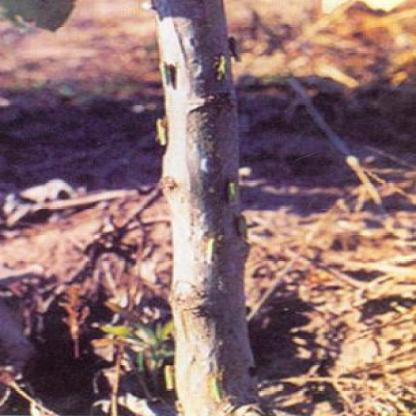Green-Leafhopper: (209, 372, 232, 404), (209, 52, 231, 80), (233, 210, 252, 242), (154, 116, 173, 146), (160, 364, 180, 392), (226, 173, 244, 203), (226, 35, 245, 62), (203, 232, 218, 264), (159, 63, 178, 88)
